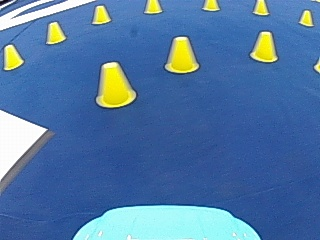cone: (95, 61, 136, 108), (164, 35, 199, 74), (249, 30, 278, 62), (2, 43, 23, 69), (45, 21, 65, 44), (91, 4, 110, 25), (298, 9, 313, 26), (252, 0, 269, 15), (144, 0, 161, 14), (202, 0, 219, 11)
